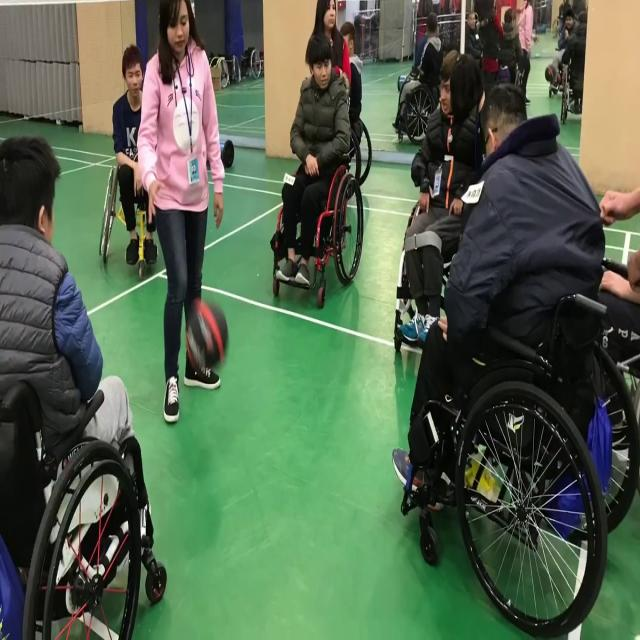wheelchairs: (390, 252, 640, 637), (3, 307, 183, 640), (384, 160, 497, 359), (258, 132, 380, 313), (93, 134, 186, 296)
